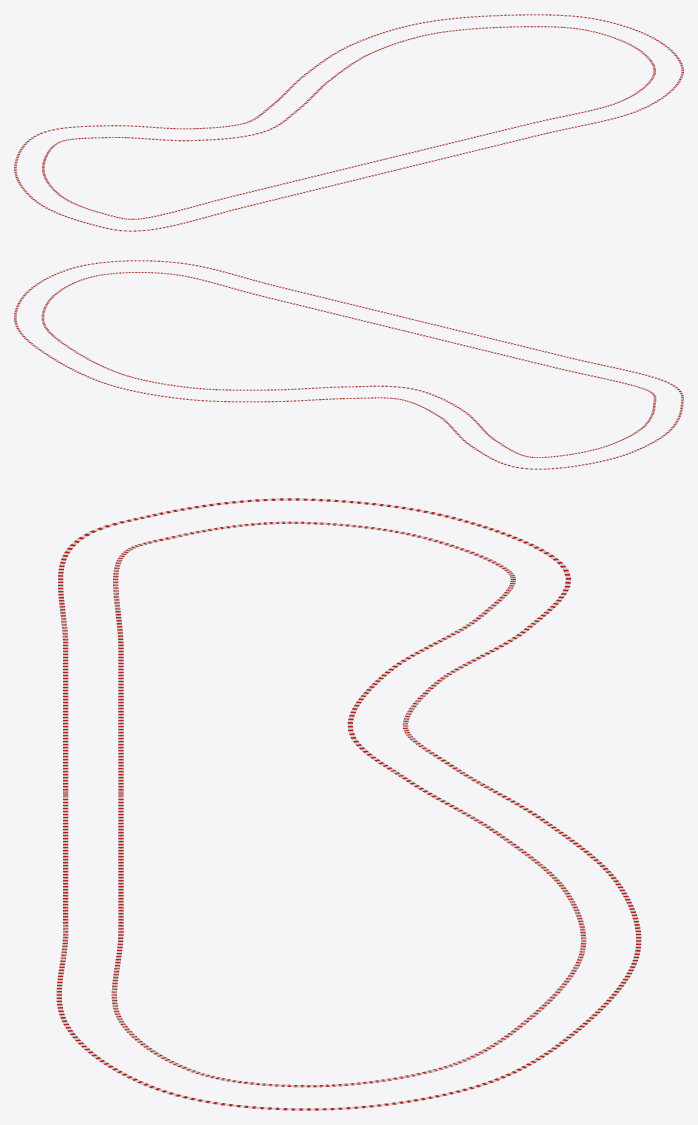
The model's file is curbs.obj.
3 views of the same model, one above another, from view 1: azimuth 30°, elevation 25°; view 2: azimuth 150°, elevation 25°; view 3: azimuth 270°, elevation 25° (orthographic). The views are drawn at different scales.
Visible parts, largest first — view 1: curbs; view 2: curbs; view 3: curbs.
Boxes of the visible parts, <box> form: curbs: <box>14,14,683,231</box>; curbs: <box>14,260,683,469</box>; curbs: <box>56,498,641,1110</box>.
Bounding box in the file's own units: 407 × 0 × 164.
1 material, 1 textured.
